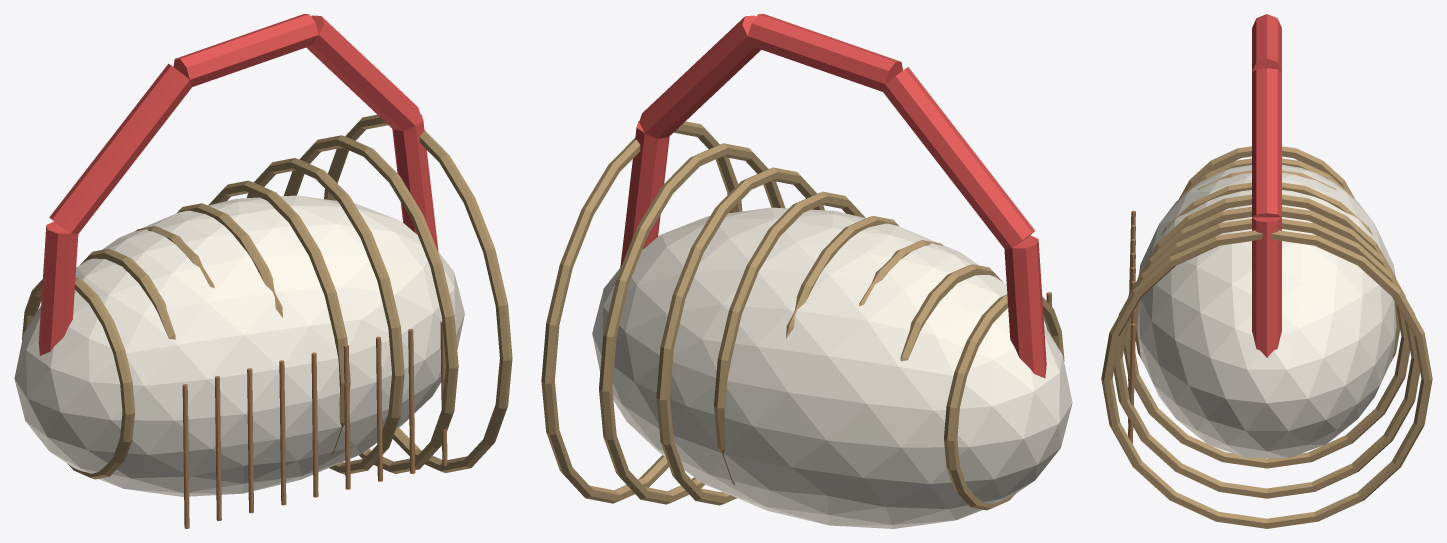
Rendered from costume_horagai_strap.glb.
3 renders of one model, left to right at view 1: azimuth 30°, elevation 25°; view 2: azimuth 150°, elevation 25°; view 3: azimuth 270°, elevation 25°, orthographic. The views are drawn at different scales.
Parts seen in each view (by area): view 1: Yamabushi horagai heavy shell, Ceremonial cloth shoulder strap_01, Concentric natural seashell coils.007, Concentric natural seashell coils.006, Concentric natural seashell coils.005, Ceremonial cloth shoulder strap_02, Ceremonial cloth shoulder strap_03, Ceremonial cloth shoulder strap_00, Concentric natural seashell coils.004, Concentric natural seashell coils, Ceremonial cloth shoulder strap_04, Concentric natural seashell coils.003 (+10 smaller); view 2: Yamabushi horagai heavy shell, Concentric natural seashell coils.007, Ceremonial cloth shoulder strap_01, Concentric natural seashell coils.006, Concentric natural seashell coils.005, Ceremonial cloth shoulder strap_02, Ceremonial cloth shoulder strap_03, Ceremonial cloth shoulder strap_00, Concentric natural seashell coils.004, Concentric natural seashell coils, Ceremonial cloth shoulder strap_04, Concentric natural seashell coils.003 (+2 smaller); view 3: Yamabushi horagai heavy shell, Concentric natural seashell coils.007, Concentric natural seashell coils.006, Concentric natural seashell coils.005, Ceremonial cloth shoulder strap_03, Ceremonial cloth shoulder strap_04, Concentric natural seashell coils.004, Ceremonial cloth shoulder strap_02, Concentric natural seashell coils, Concentric natural seashell coils.003, Concentric natural seashell coils.001, Horagai wooden fibers.008.
Boxes of the visible parts, left/top/right/bottom form: Yamabushi horagai heavy shell: left=14, top=195, right=464, bottom=496; Ceremonial cloth shoulder strap_01: left=49, top=63, right=191, bottom=234; Concentric natural seashell coils.007: left=324, top=114, right=512, bottom=472; Concentric natural seashell coils.006: left=284, top=135, right=458, bottom=473; Concentric natural seashell coils.005: left=246, top=158, right=404, bottom=474; Ceremonial cloth shoulder strap_02: left=173, top=14, right=318, bottom=86; Ceremonial cloth shoulder strap_03: left=306, top=15, right=420, bottom=130; Ceremonial cloth shoulder strap_00: left=38, top=221, right=78, bottom=355; Concentric natural seashell coils.004: left=208, top=180, right=350, bottom=455; Concentric natural seashell coils: left=22, top=277, right=134, bottom=479; Ceremonial cloth shoulder strap_04: left=392, top=114, right=438, bottom=251; Concentric natural seashell coils.003: left=177, top=203, right=282, bottom=317; Yamabushi horagai heavy shell: left=592, top=207, right=1072, bottom=528; Concentric natural seashell coils.007: left=541, top=121, right=742, bottom=503; Ceremonial cloth shoulder strap_01: left=883, top=67, right=1034, bottom=248; Concentric natural seashell coils.006: left=599, top=143, right=785, bottom=504; Concentric natural seashell coils.005: left=656, top=167, right=824, bottom=505; Ceremonial cloth shoulder strap_02: left=748, top=14, right=902, bottom=91; Ceremonial cloth shoulder strap_03: left=639, top=15, right=760, bottom=138; Ceremonial cloth shoulder strap_00: left=1004, top=235, right=1046, bottom=378; Concentric natural seashell coils.004: left=714, top=191, right=865, bottom=502; Concentric natural seashell coils: left=944, top=294, right=1064, bottom=510; Ceremonial cloth shoulder strap_04: left=620, top=121, right=669, bottom=267; Concentric natural seashell coils.003: left=786, top=216, right=899, bottom=338; Yamabushi horagai heavy shell: left=1137, top=164, right=1396, bottom=457; Concentric natural seashell coils.007: left=1101, top=230, right=1432, bottom=528; Concentric natural seashell coils.006: left=1114, top=218, right=1419, bottom=498; Concentric natural seashell coils.005: left=1124, top=206, right=1409, bottom=468; Ceremonial cloth shoulder strap_03: left=1252, top=68, right=1281, bottom=217; Ceremonial cloth shoulder strap_04: left=1252, top=217, right=1281, bottom=357; Concentric natural seashell coils.004: left=1135, top=194, right=1399, bottom=363; Ceremonial cloth shoulder strap_02: left=1252, top=14, right=1281, bottom=71; Concentric natural seashell coils: left=1179, top=146, right=1354, bottom=198; Concentric natural seashell coils.003: left=1161, top=182, right=1372, bottom=234; Concentric natural seashell coils.001: left=1180, top=158, right=1353, bottom=197; Horagai wooden fibers.008: left=1128, top=323, right=1135, bottom=443.
Size of the model in its own units: 1.84 by 1.95 by 1.38.
